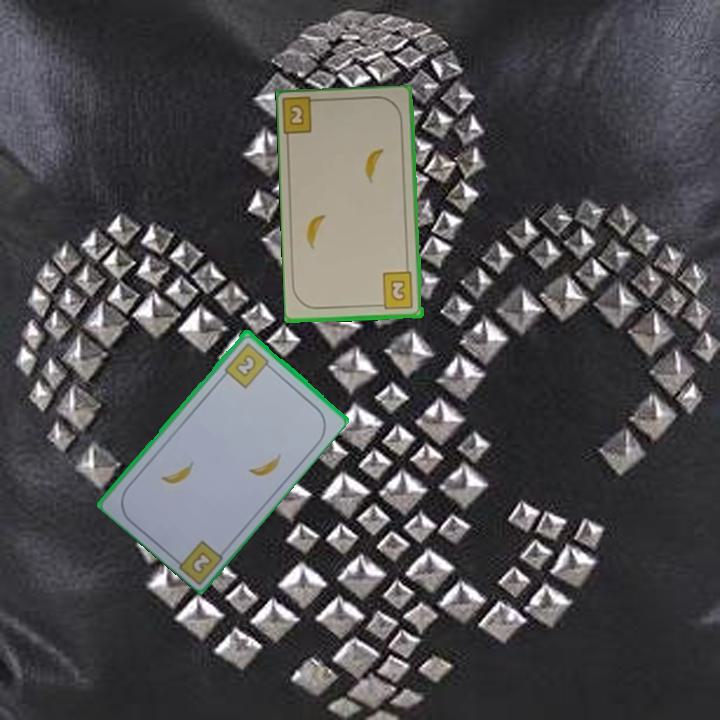2b: (221, 339, 275, 391), (281, 96, 325, 139), (374, 269, 416, 312), (188, 547, 215, 576)
